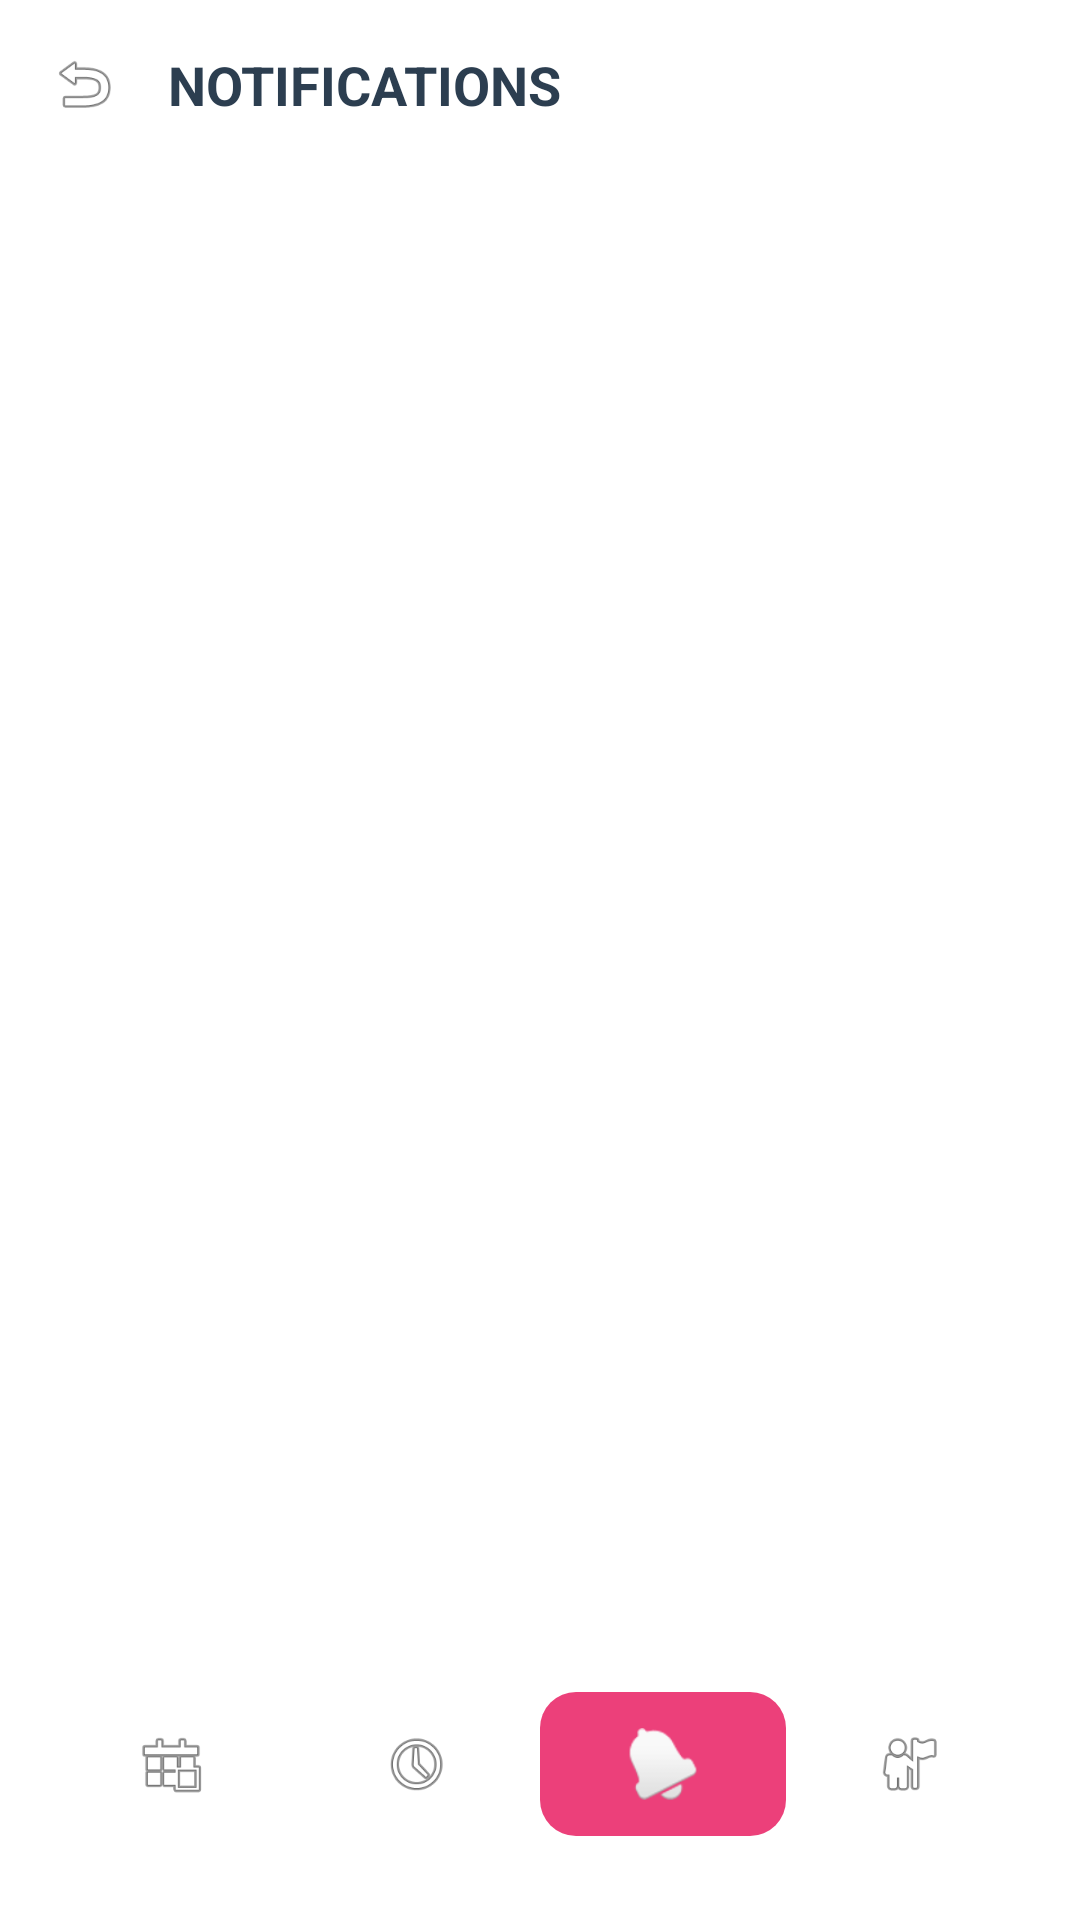

Where icons sit on this 1080px x 1920px app screen, as detection(x1, y1, x2, y2):
myplaces: detection(883, 1737, 937, 1791)
popup reminder: detection(540, 1692, 786, 1836)
recent history: detection(390, 1738, 443, 1790)
revert: detection(59, 61, 111, 108)
today: detection(142, 1738, 201, 1793)
